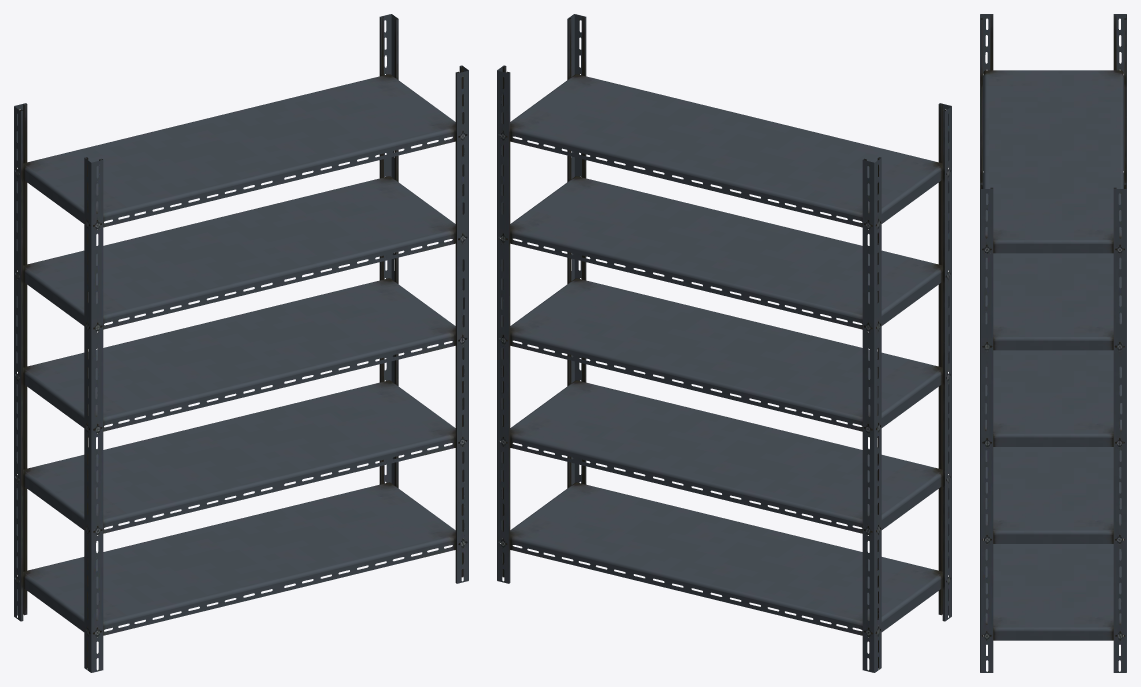
File: shelf.glb
The picture shows the model from 3 angles, left to right: view 1: azimuth 30°, elevation 25°; view 2: azimuth 150°, elevation 25°; view 3: azimuth 270°, elevation 25°; orthographic projection. The views are drawn at different scales.
Parts seen in each view (by area): view 1: Cloner_1__0; view 2: Cloner_1__0; view 3: Cloner_1__0.
Boxes of the visible parts, x1,y1,x2,y2 form: Cloner_1__0: (14,14,468,672); Cloner_1__0: (497,14,951,672); Cloner_1__0: (980,14,1126,672).
Bounding box in the file's own units: 1.55 × 2 × 0.55.
Materials: 1 (1 with a texture image).
